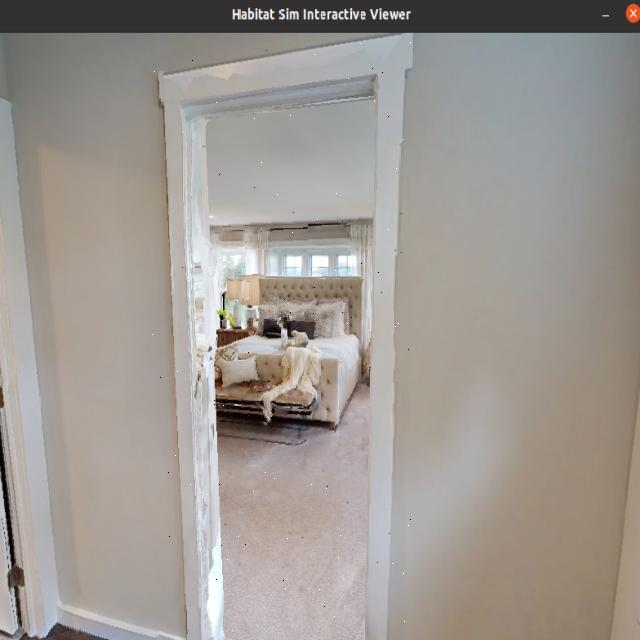door-frame: (147, 35, 414, 640)
